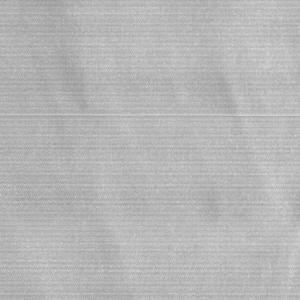Wrinkle: (213, 63, 300, 249), (18, 1, 111, 132), (49, 159, 133, 300)
